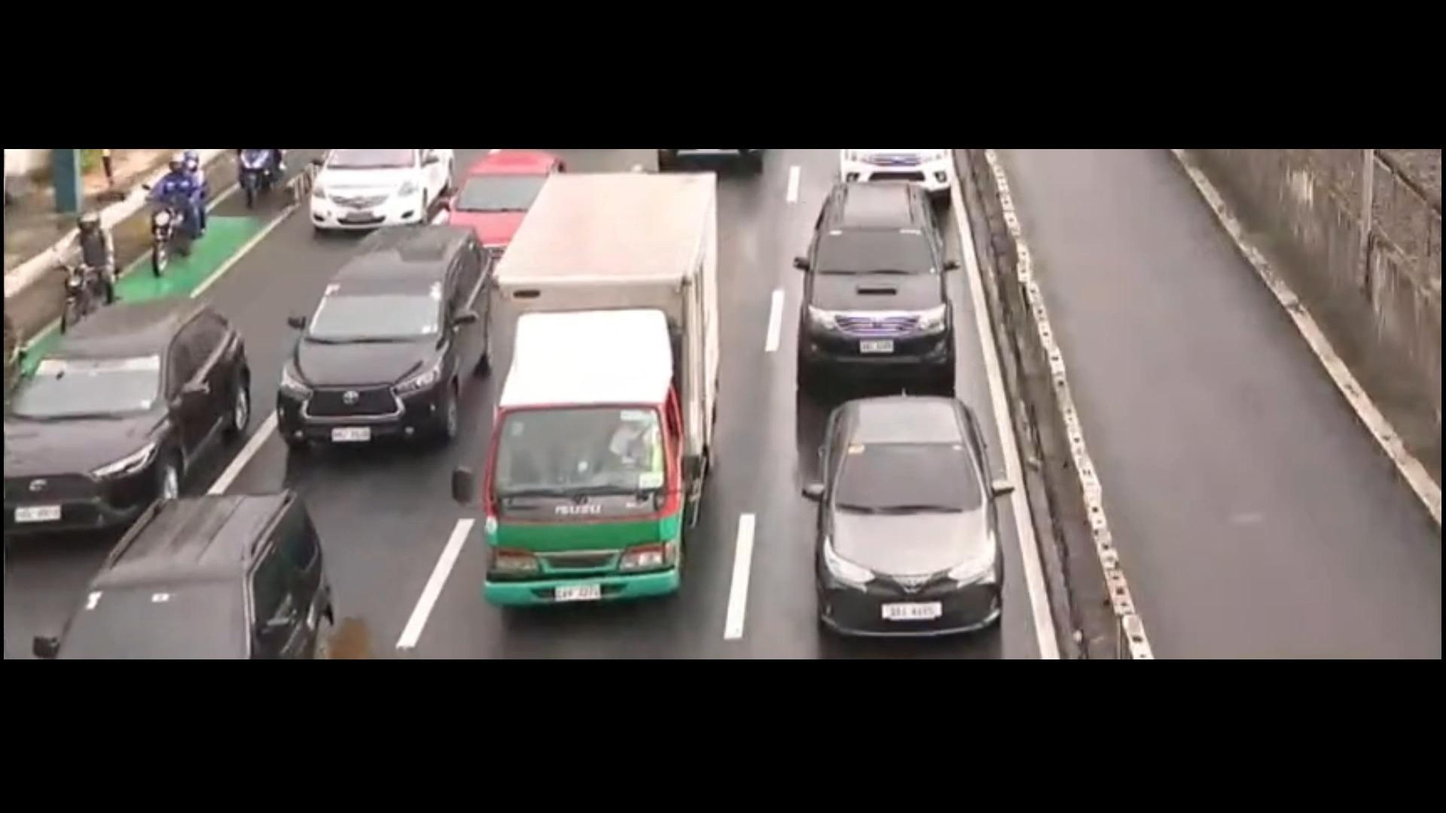Motorcycle: (30, 200, 136, 346), (141, 158, 226, 279), (231, 142, 287, 208)
SUV: (0, 279, 281, 535), (278, 224, 507, 471), (42, 478, 341, 661), (754, 170, 966, 408)
Sedan: (766, 392, 1013, 642)
Truck: (448, 158, 754, 618)
